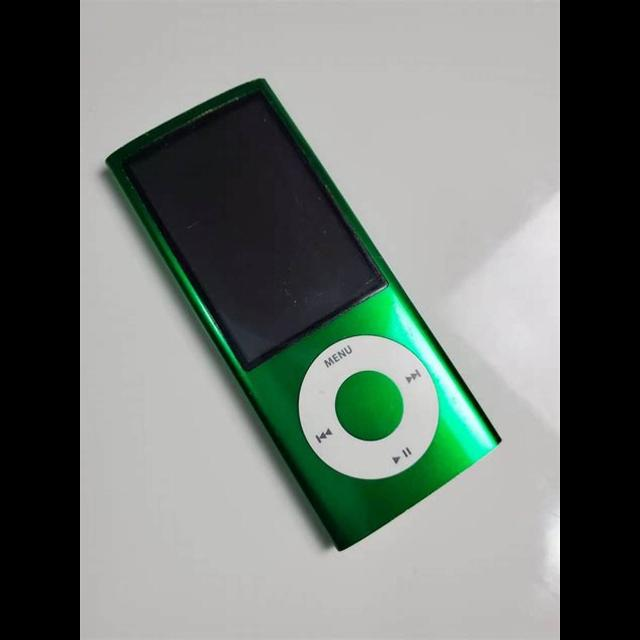Music-Player: (106, 70, 508, 560)
